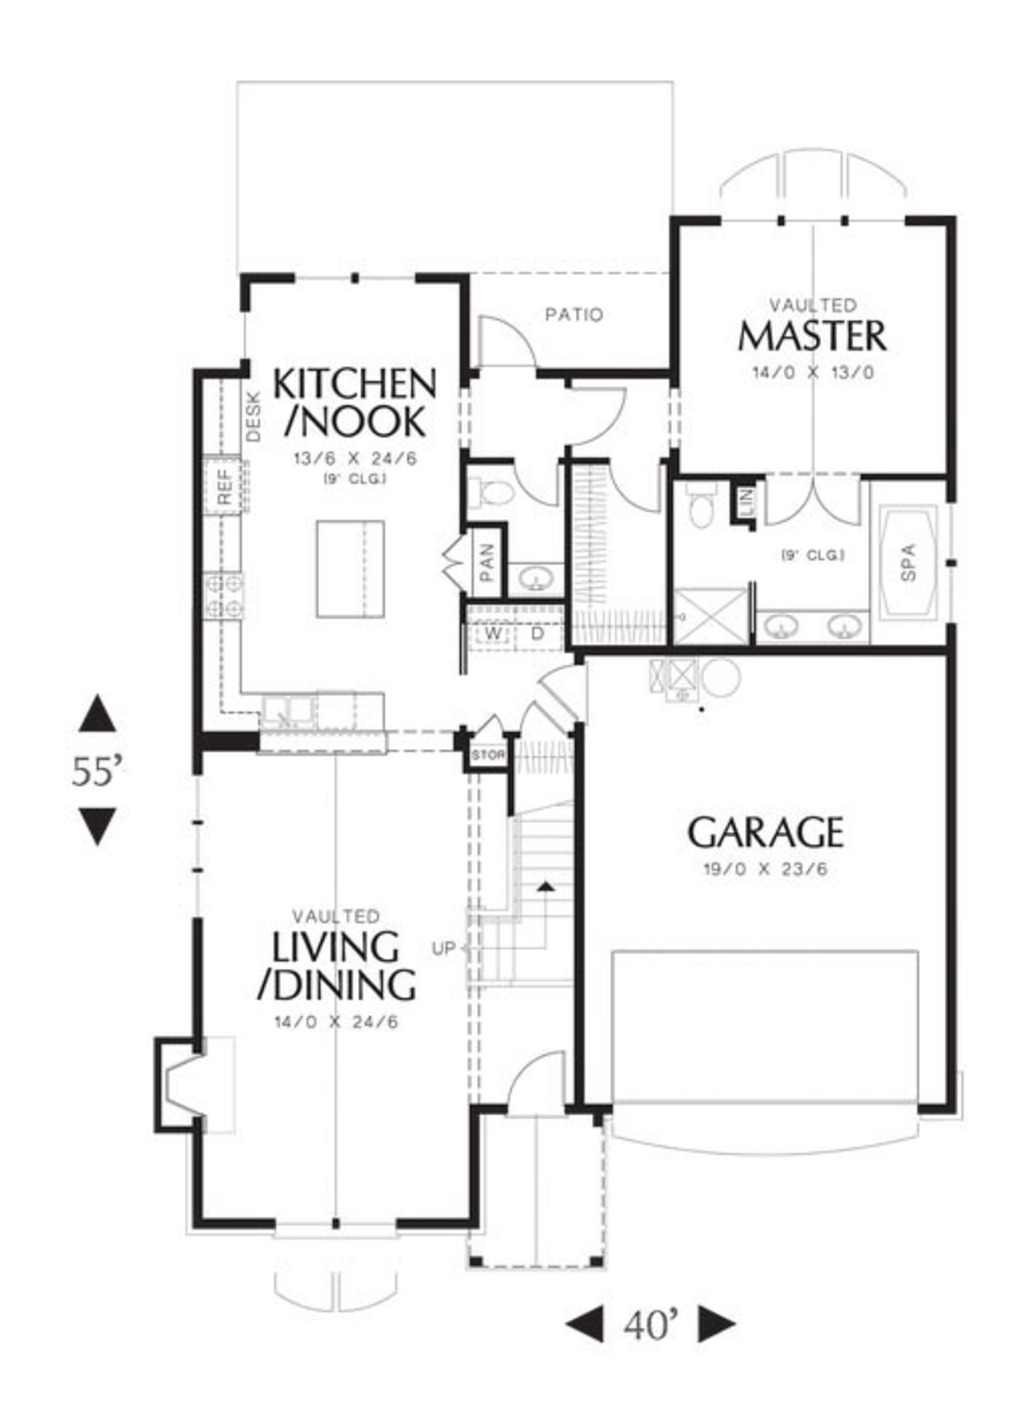door: (760, 469, 868, 525), (508, 1045, 575, 1119), (564, 382, 630, 449), (608, 454, 669, 519), (475, 314, 538, 375), (441, 521, 480, 608), (508, 462, 567, 512), (541, 664, 592, 719), (519, 699, 564, 743), (471, 714, 506, 747)
large_sink: (464, 458, 514, 519), (680, 471, 723, 534)
small_sink: (751, 597, 871, 649), (501, 564, 571, 604)
stairs: (471, 771, 584, 1025)
twin_sink: (264, 695, 325, 736)
window: (284, 262, 414, 292)
